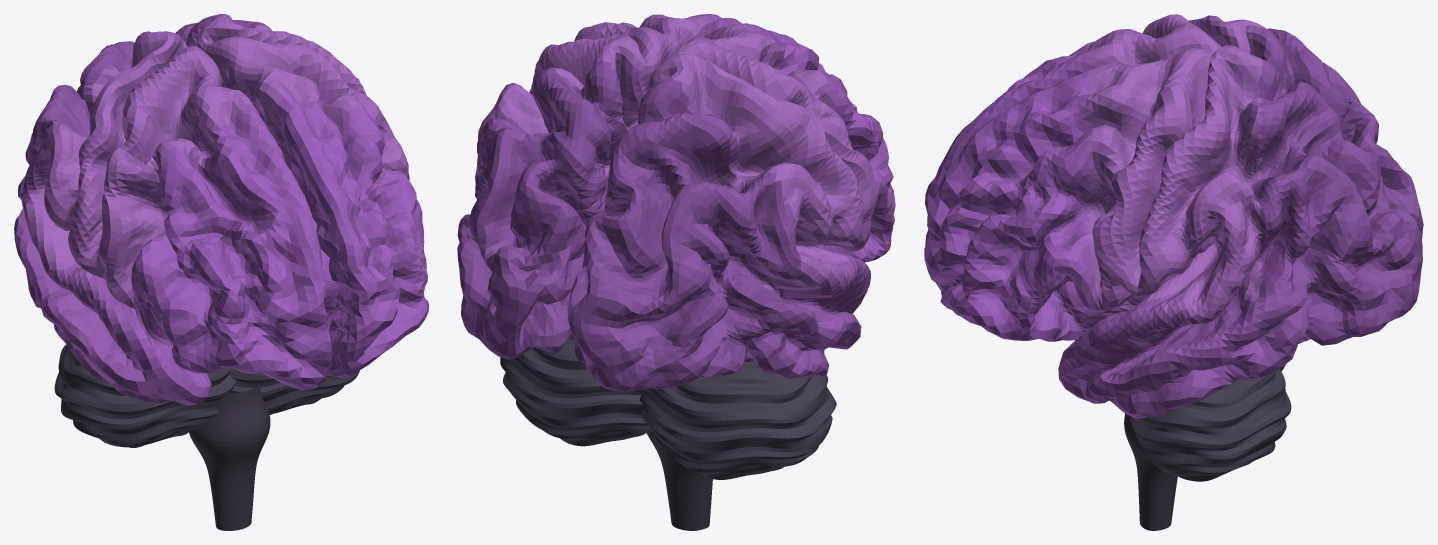
File: brain-fsaverage5.glb
3 views of the same model, side by side, from view 1: azimuth 30°, elevation 25°; view 2: azimuth 150°, elevation 25°; view 3: azimuth 270°, elevation 25° (orthographic). The views are drawn at different scales.
Parts seen in each view (by area): view 1: left_frontal, left_parietal, right_frontal, right_parietal, left_temporal, left_cerebellum, brainstem, left_occipital, right_cerebellum, right_occipital; view 2: left_occipital, right_occipital, left_parietal, left_cerebellum, right_parietal, right_cerebellum, left_temporal, left_frontal, brainstem; view 3: right_parietal, right_frontal, right_occipital, right_temporal, right_cerebellum, left_occipital, left_parietal, left_frontal, brainstem.
Part boxes in pixels (box(x1,y1,x2,y2)): left_frontal: box(128, 103, 331, 405); left_parietal: box(24, 31, 253, 297); right_frontal: box(274, 96, 428, 378); right_parietal: box(192, 14, 409, 180); left_temporal: box(20, 243, 203, 403); left_cerebellum: box(54, 344, 236, 447); brainstem: box(189, 384, 270, 530); left_occipital: box(14, 31, 151, 306); right_cerebellum: box(229, 368, 359, 414); right_occipital: box(176, 16, 269, 46); left_occipital: box(567, 76, 809, 391); right_occipital: box(457, 61, 627, 359); left_parietal: box(649, 24, 876, 290); left_cerebellum: box(640, 360, 836, 479); right_parietal: box(475, 14, 713, 181); right_cerebellum: box(500, 334, 652, 446); left_temporal: box(744, 236, 870, 378); left_frontal: box(739, 23, 895, 313); brainstem: box(646, 432, 712, 530); right_parietal: box(1083, 45, 1265, 318); right_frontal: box(924, 71, 1092, 402); right_occipital: box(1255, 58, 1422, 377); right_temporal: box(1083, 277, 1264, 418); right_cerebellum: box(1129, 368, 1291, 481); left_occipital: box(1259, 27, 1423, 238); left_parietal: box(1084, 14, 1263, 72); left_frontal: box(925, 43, 1090, 245); brainstem: box(1124, 413, 1177, 530).
Size of the model in its own units: 2.07 by 2.8 by 2.59.
